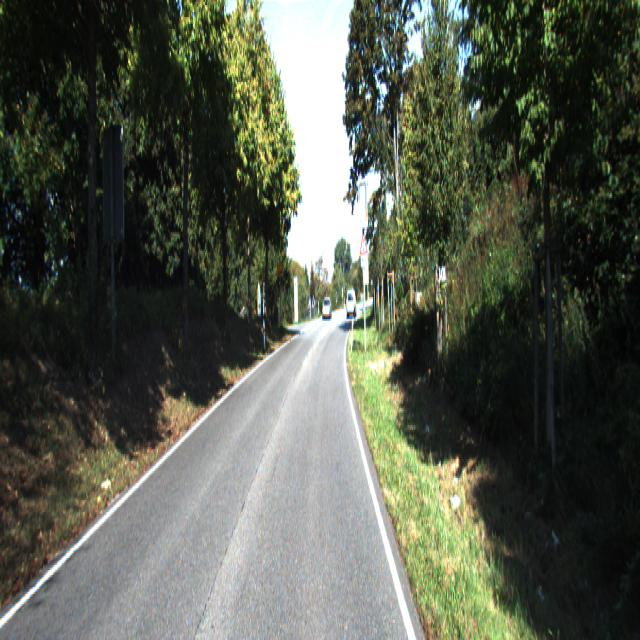Car: (346, 290, 356, 319), (322, 299, 332, 321)
